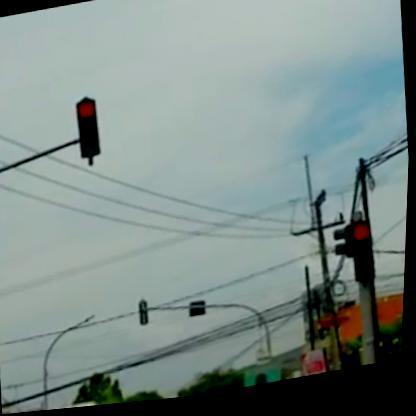red: (75, 98, 105, 164), (352, 226, 380, 293)
